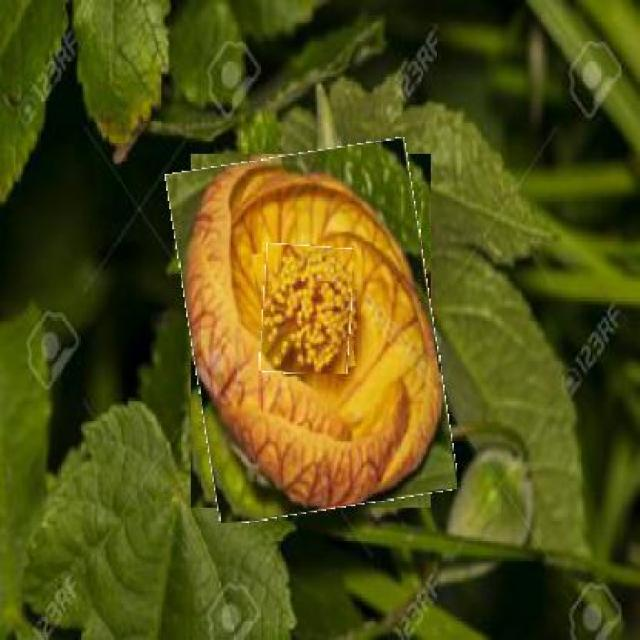Flower: (178, 145, 445, 518), (261, 245, 353, 376)
